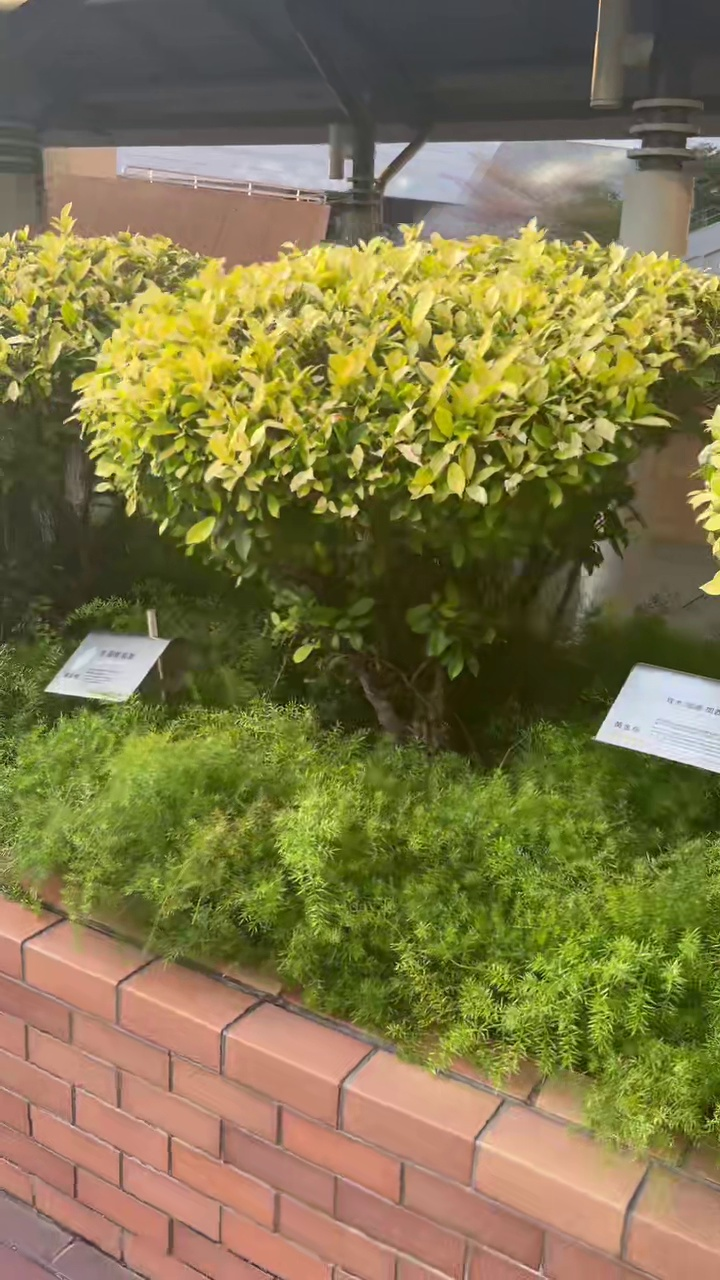Golden-leaves Fig: (75, 223, 719, 743)
